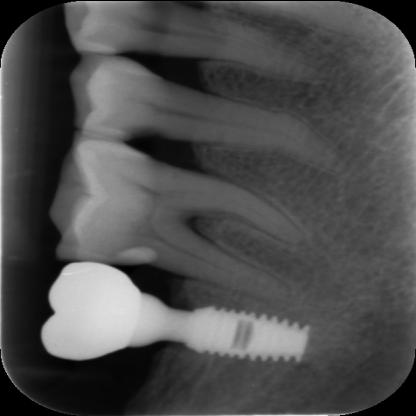Bicon: (186, 300, 311, 363)
